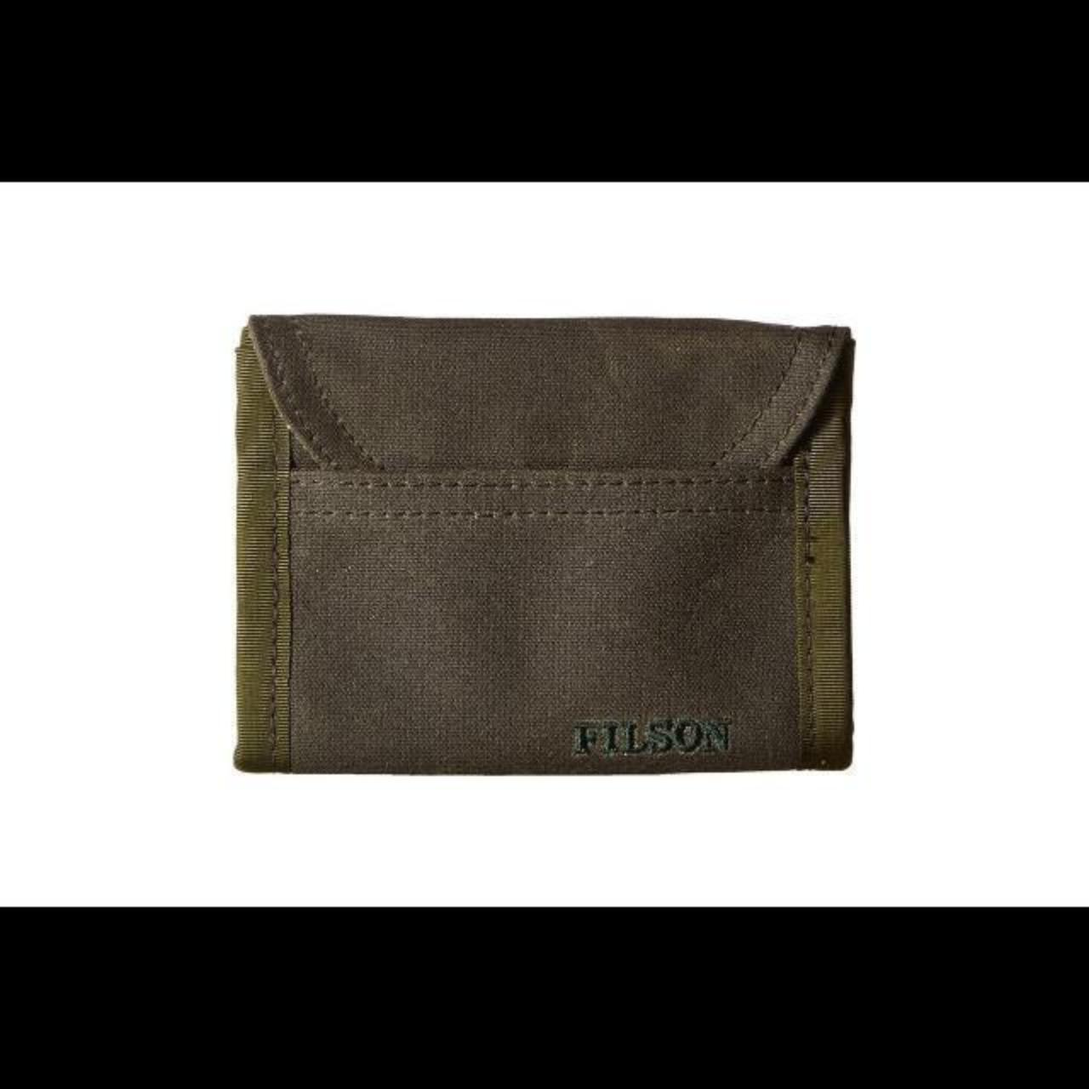wallet: (202, 277, 895, 803)
